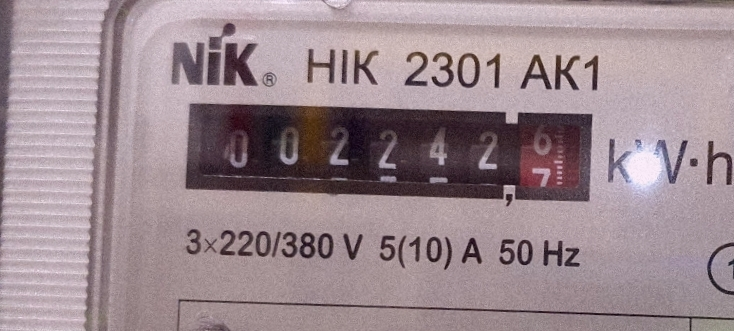0: (275, 122, 302, 166), (226, 124, 251, 170), (326, 123, 352, 167)
2: (474, 127, 501, 172), (375, 126, 401, 171)
4: (425, 123, 450, 167)
6: (529, 122, 555, 156)
7: (528, 164, 552, 188)
screen: (173, 80, 611, 225)
